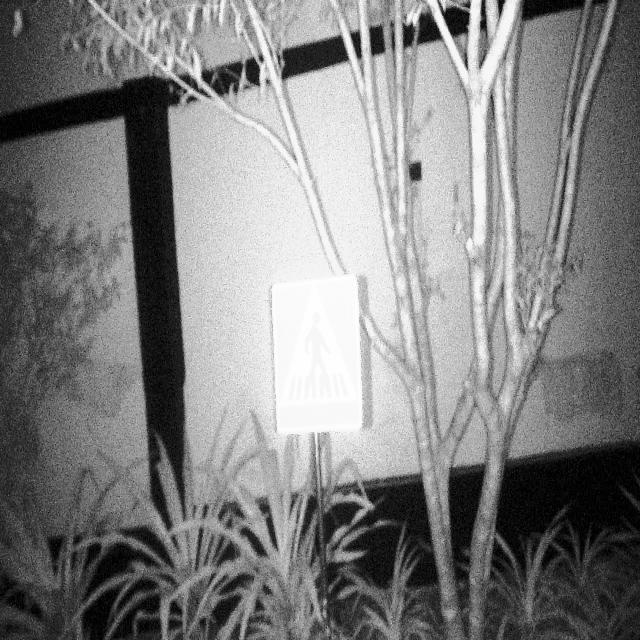Sign: (270, 273, 365, 437)
